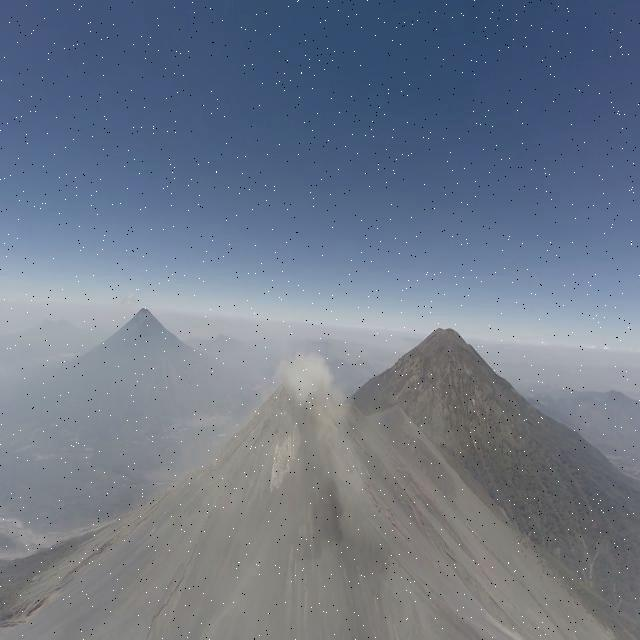Plume: (277, 351, 335, 416)
Summit: (172, 375, 368, 500)
